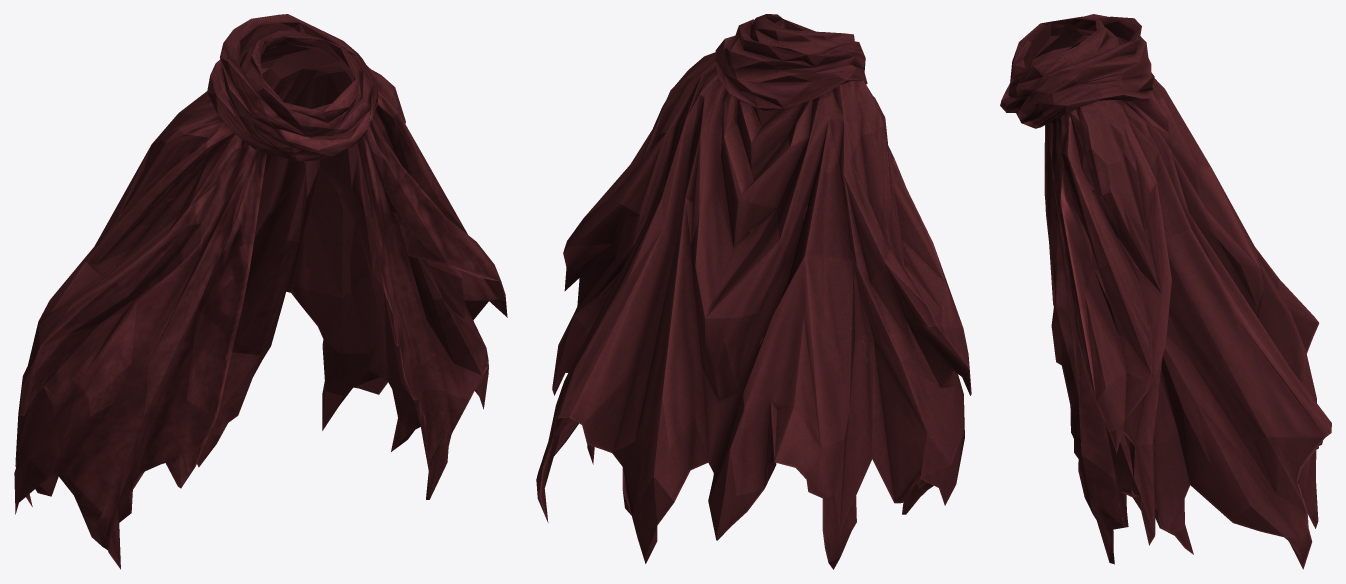
File: cape.glb
3 views of the same model, side by side, from view 1: azimuth 30°, elevation 25°; view 2: azimuth 150°, elevation 25°; view 3: azimuth 270°, elevation 25° (orthographic). The views are drawn at different scales.
Parts seen in each view (by area): view 1: Mesh_0; view 2: Mesh_0; view 3: Mesh_0.
Part boxes in pixels (box(x1,y1,x2,y2)): Mesh_0: box(14, 14, 507, 569); Mesh_0: box(536, 14, 971, 569); Mesh_0: box(1000, 14, 1331, 569).
Bounding box in the file's own units: 1.78 × 1.9 × 1.18.
Materials: 1 (1 with a texture image).
